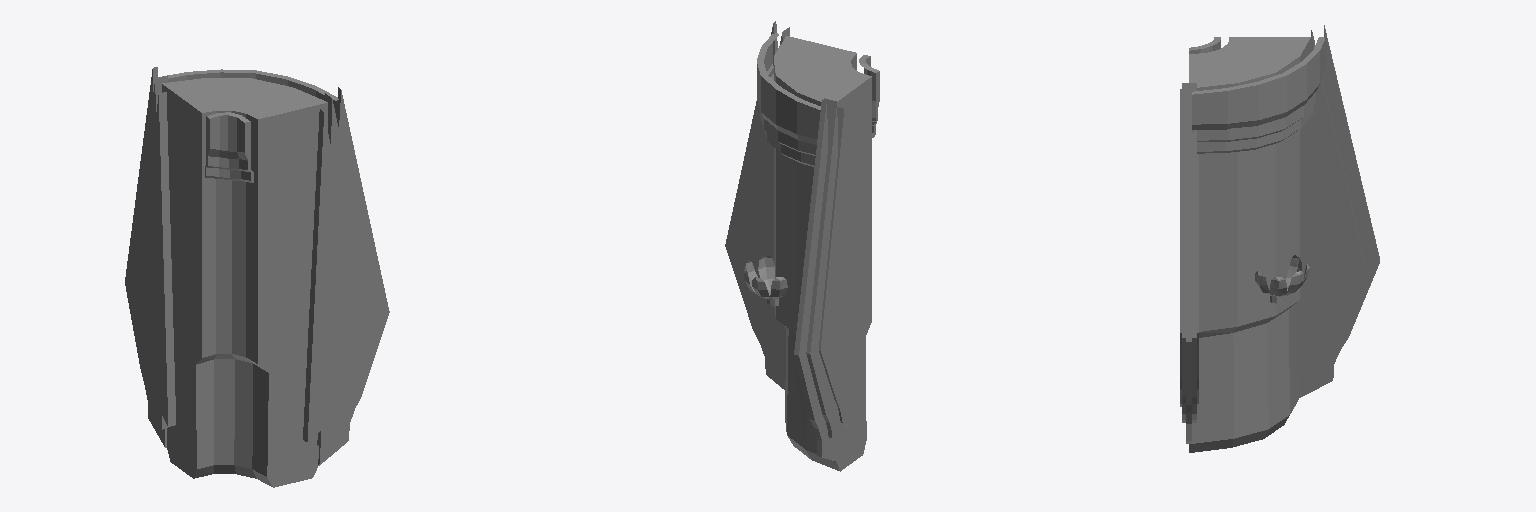
File: EDU_Restaurant_barTopCorner96.obj
The picture shows the model from 3 angles: view 1: azimuth 30°, elevation 25°; view 2: azimuth 150°, elevation 25°; view 3: azimuth 270°, elevation 25°; orthographic projection.
Visible parts, largest first — view 1: EDU_Restaurant_barTopCorner96; view 2: EDU_Restaurant_barTopCorner96; view 3: EDU_Restaurant_barTopCorner96.
Boxes of the visible parts, box(x1,y1,x2,y2) form: EDU_Restaurant_barTopCorner96: box(125, 67, 389, 487); EDU_Restaurant_barTopCorner96: box(725, 21, 879, 471); EDU_Restaurant_barTopCorner96: box(1180, 25, 1379, 452).
Bounding box in the file's own units: 158 × 332 × 158.